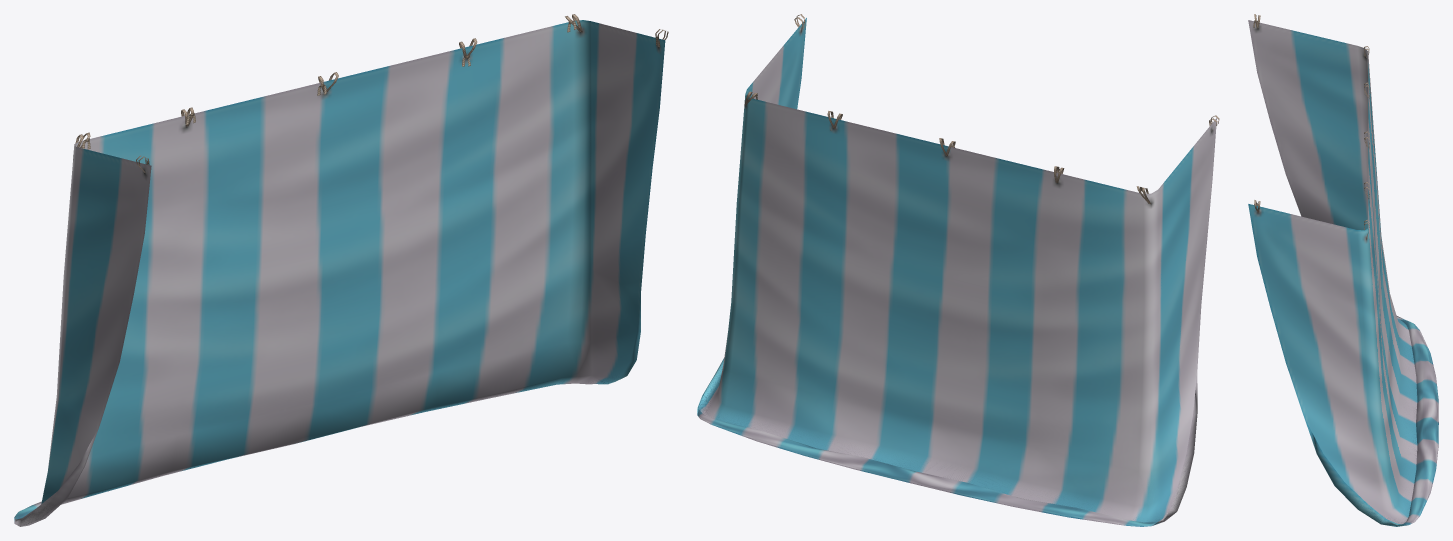
Rendered from jsf_BackSide_s02_c02_t01.fbx.
The picture shows the model from 3 angles, left to right: view 1: azimuth 30°, elevation 25°; view 2: azimuth 150°, elevation 25°; view 3: azimuth 270°, elevation 25°; orthographic projection. The views are drawn at different scales.
Visible parts, largest first — view 1: jsf_BackSide_s02_c02_t01; view 2: jsf_BackSide_s02_c02_t01; view 3: jsf_BackSide_s02_c02_t01.
Part boxes in pixels (x1,y1,x2,y2): jsf_BackSide_s02_c02_t01: (14,14,668,526); jsf_BackSide_s02_c02_t01: (697,14,1219,526); jsf_BackSide_s02_c02_t01: (1248,14,1438,526).
Size of the model in its own units: 296 by 205 by 112.
